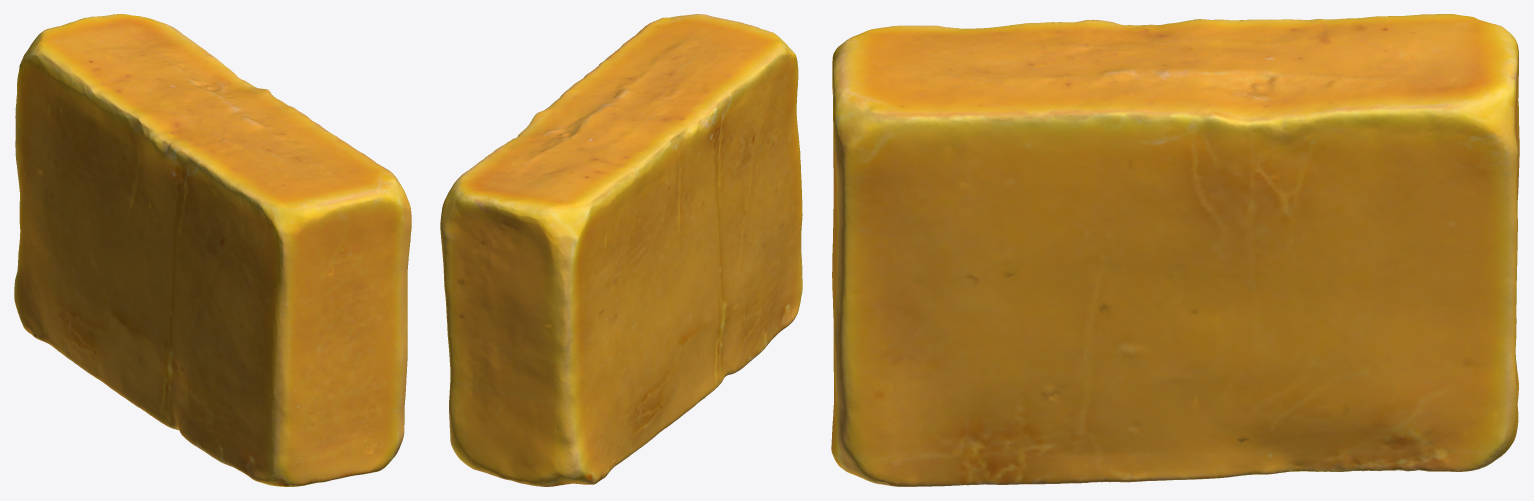
The model's file is compressed-cera.glb.
3 views of the same model, side by side, from view 1: azimuth 30°, elevation 25°; view 2: azimuth 150°, elevation 25°; view 3: azimuth 270°, elevation 25° (orthographic). The views are drawn at different scales.
Size of the model in its own units: 0.7288 by 1.24 by 2.
1 material, 1 textured.
